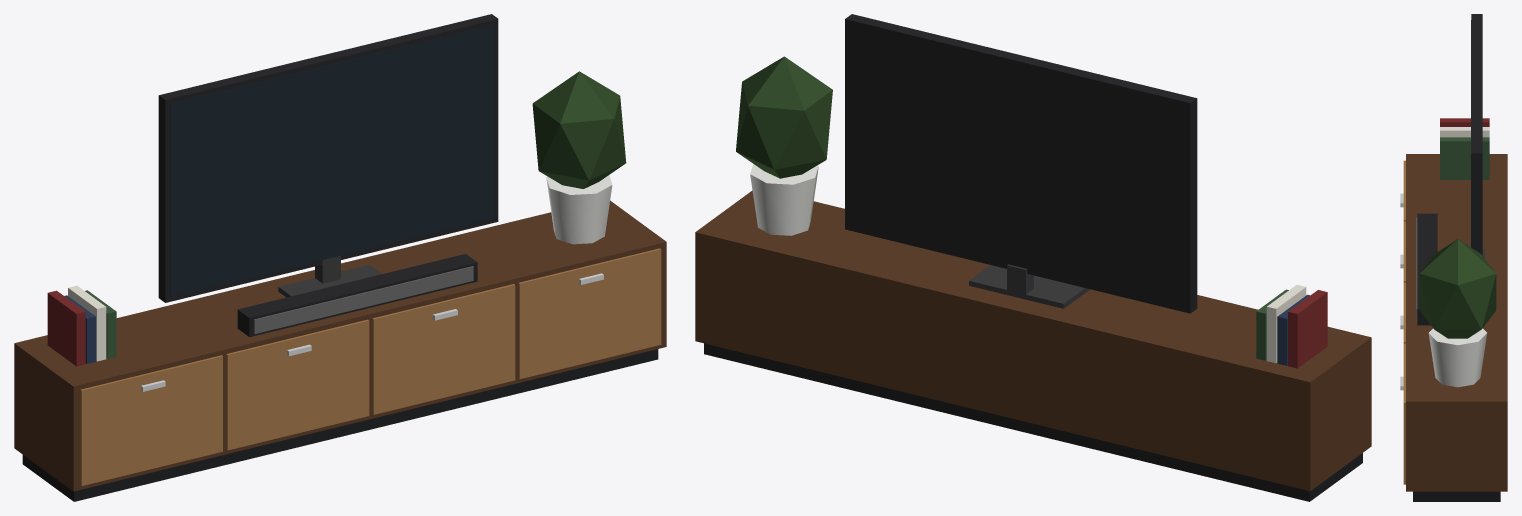
Rendered from tv_stand.glb.
3 renders of one model, left to right at view 1: azimuth 30°, elevation 25°; view 2: azimuth 150°, elevation 25°; view 3: azimuth 270°, elevation 25°, orthographic. The views are drawn at different scales.
Parts seen in each view (by area): view 1: tv_stand; view 2: tv_stand; view 3: tv_stand.
Part boxes in pixels (box(x1,y1,x2,y2)): tv_stand: box(14, 14, 666, 501); tv_stand: box(695, 14, 1371, 501); tv_stand: box(1400, 14, 1507, 501).
Bounding box in the file's own units: 2.6 × 1.45 × 0.475.
Materials: 1 (1 with a texture image).
